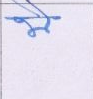au_matra: (22, 0, 54, 26)
